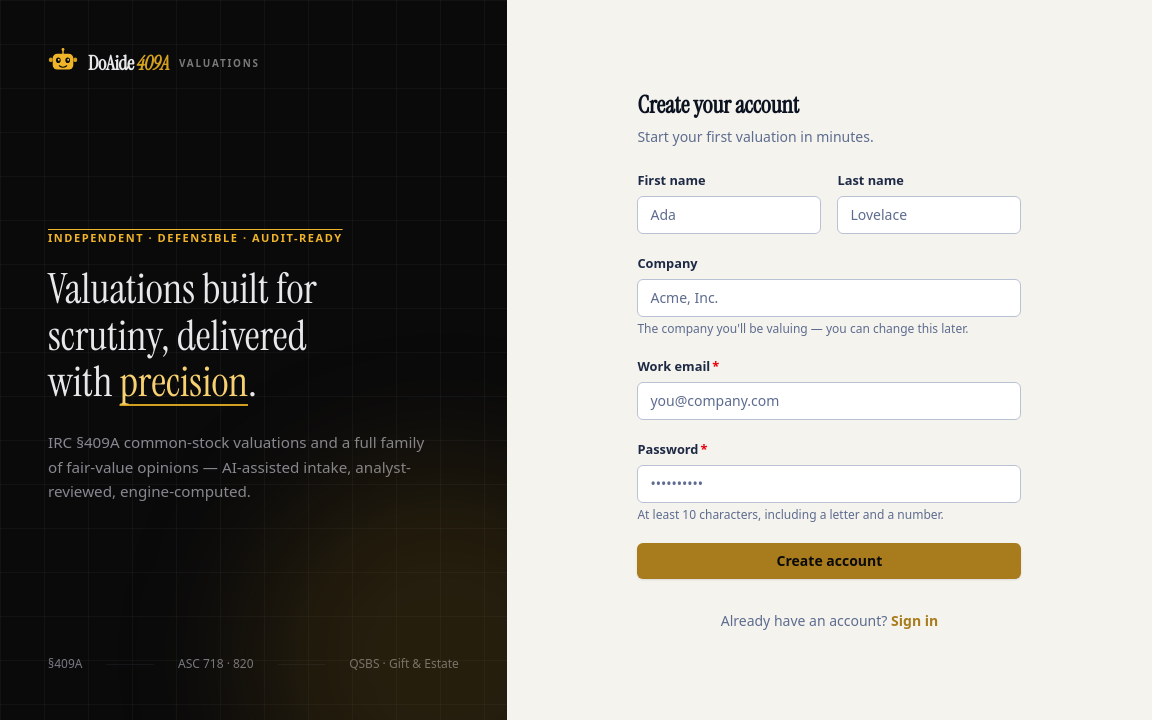
RegisterPage › surfaces an email the API already knows
Type "ada@acme.com" into the field labelled "Work email" at (829, 401), box [637,382,1021,420]
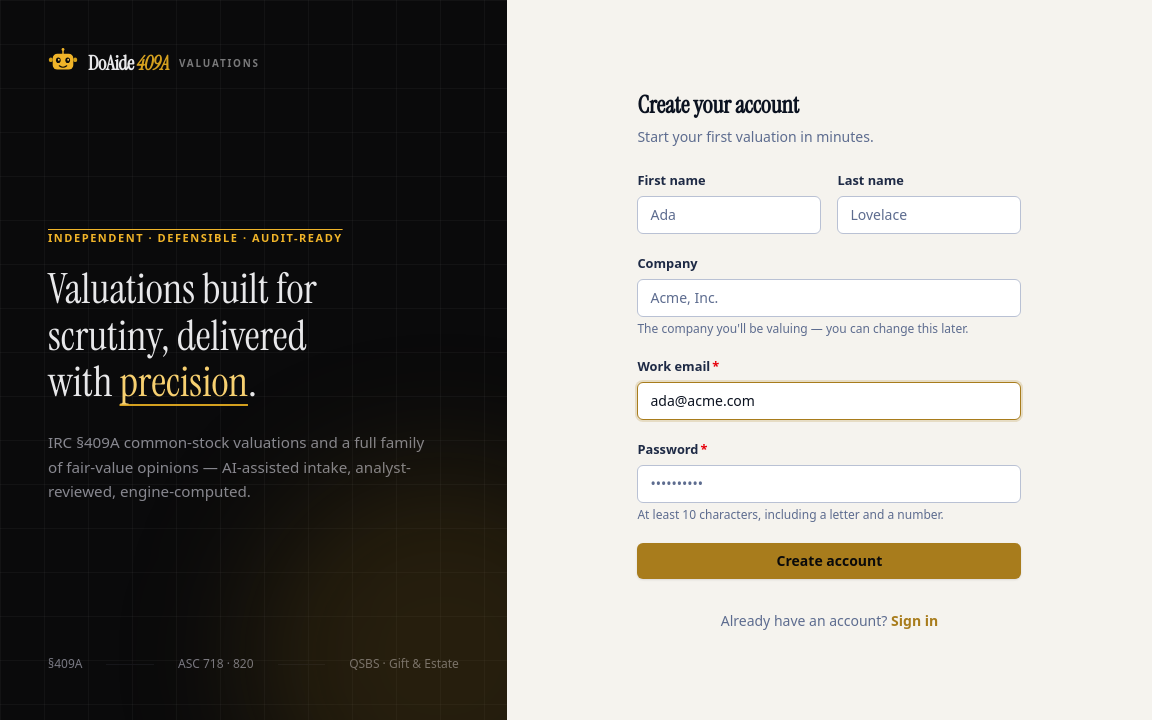
Type "hunter2hunter2" into the password field labelled "Password" at (829, 484), box [637,465,1021,503]
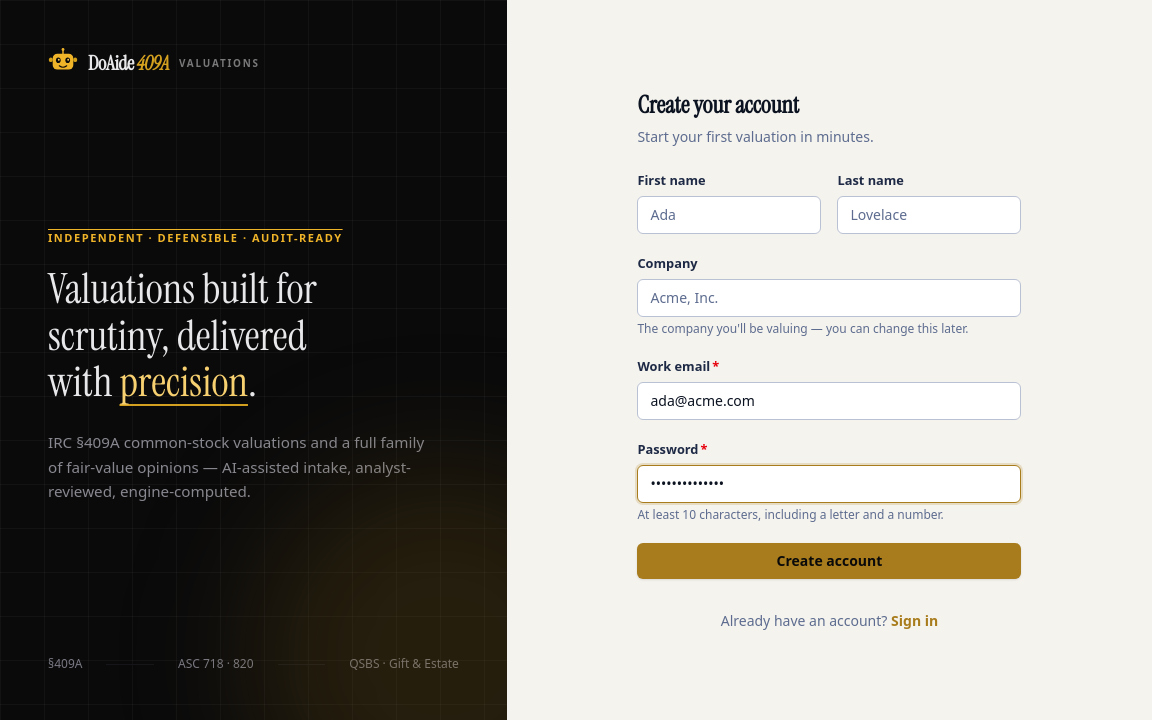
Click the button "Create account" at (829, 561), box [637,543,1021,579]
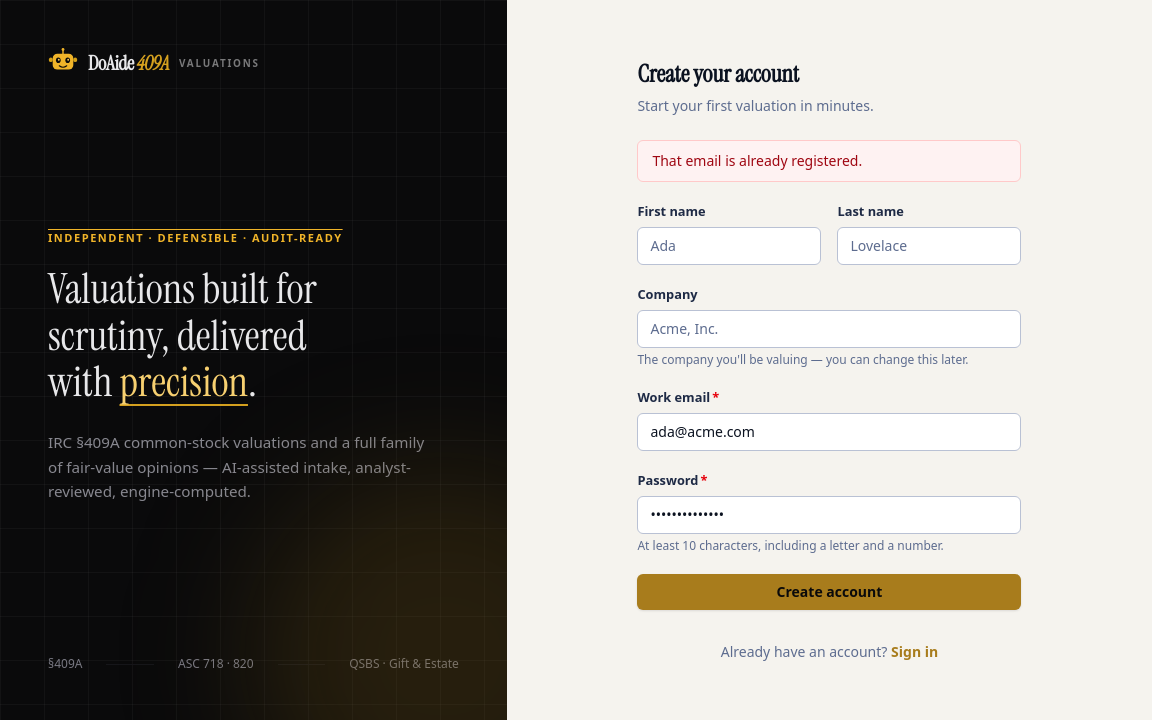
Expected: the button "Create account" is enabled, [637,574,1021,610]
Expected: the message reads "That email is already registered.", [652,151,862,170]
